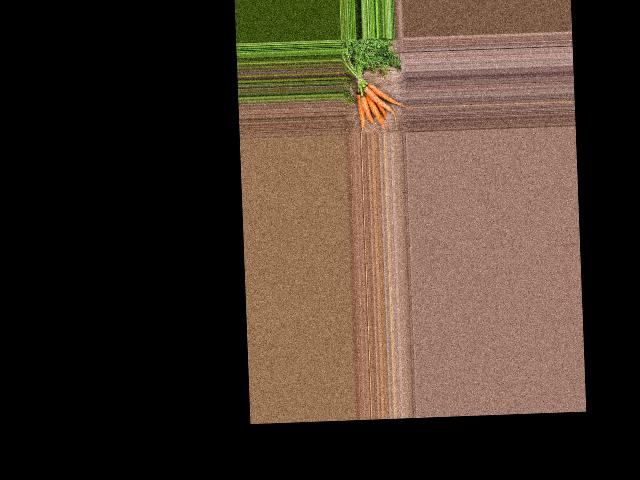carrot: (356, 92, 376, 125)
